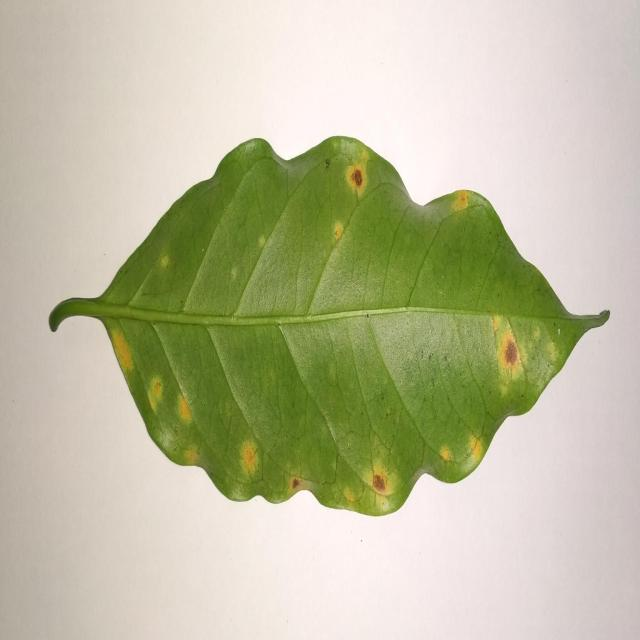Enfermedad-Roya: (47, 137, 612, 520)
